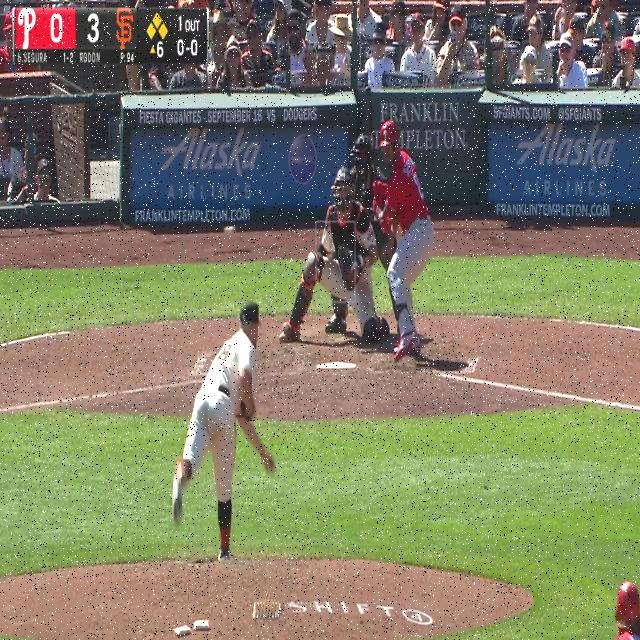baseball: (224, 225, 235, 237)
